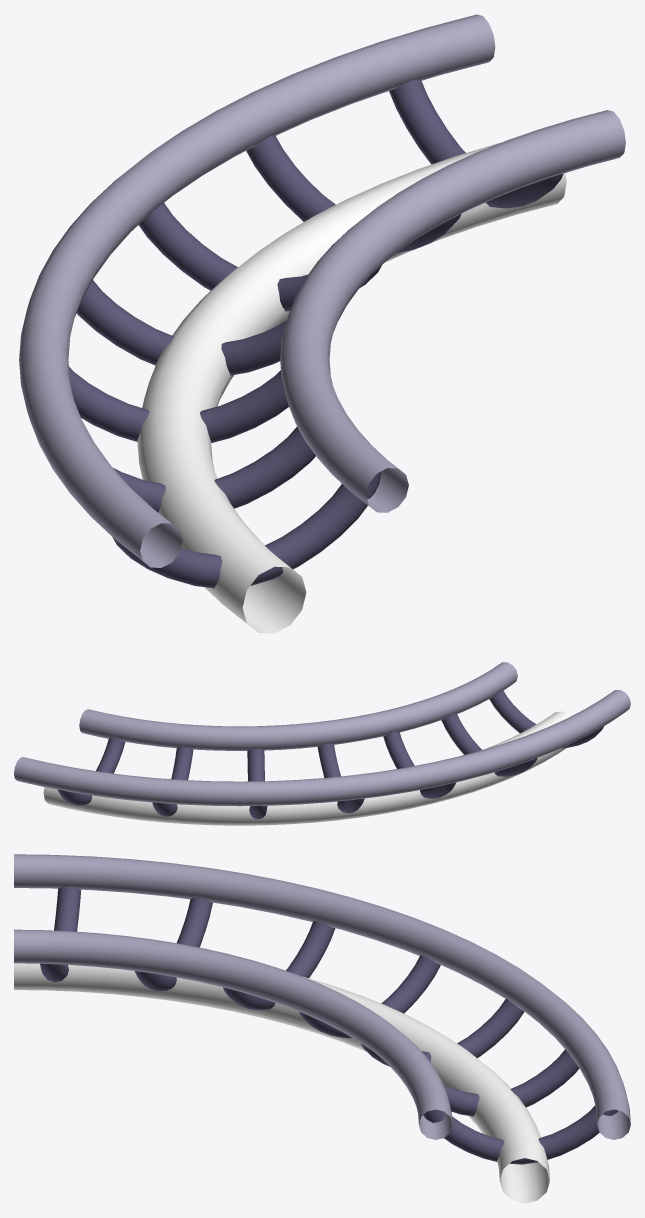
File: rail-curve-right.glb
The picture shows the model from 3 angles, top to bottom: view 1: azimuth 30°, elevation 25°; view 2: azimuth 150°, elevation 25°; view 3: azimuth 270°, elevation 25°; orthographic projection. The views are drawn at different scales.
Visible parts, largest first — view 1: Plane.288_Material.001_0; view 2: Plane.288_Material.001_0; view 3: Plane.288_Material.001_0.
Boxes of the visible parts, x1=… form: Plane.288_Material.001_0: x1=19, y1=14, x2=625, y2=633; Plane.288_Material.001_0: x1=14, y1=662, x2=630, y2=825; Plane.288_Material.001_0: x1=14, y1=854, x2=630, y2=1203.
Bounding box in the file's own units: 7.97 × 1.34 × 7.97.
1 material, 1 textured.
